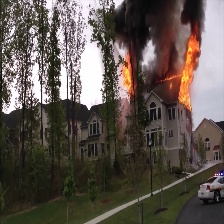fire: (167, 26, 203, 111), (120, 48, 137, 101)
